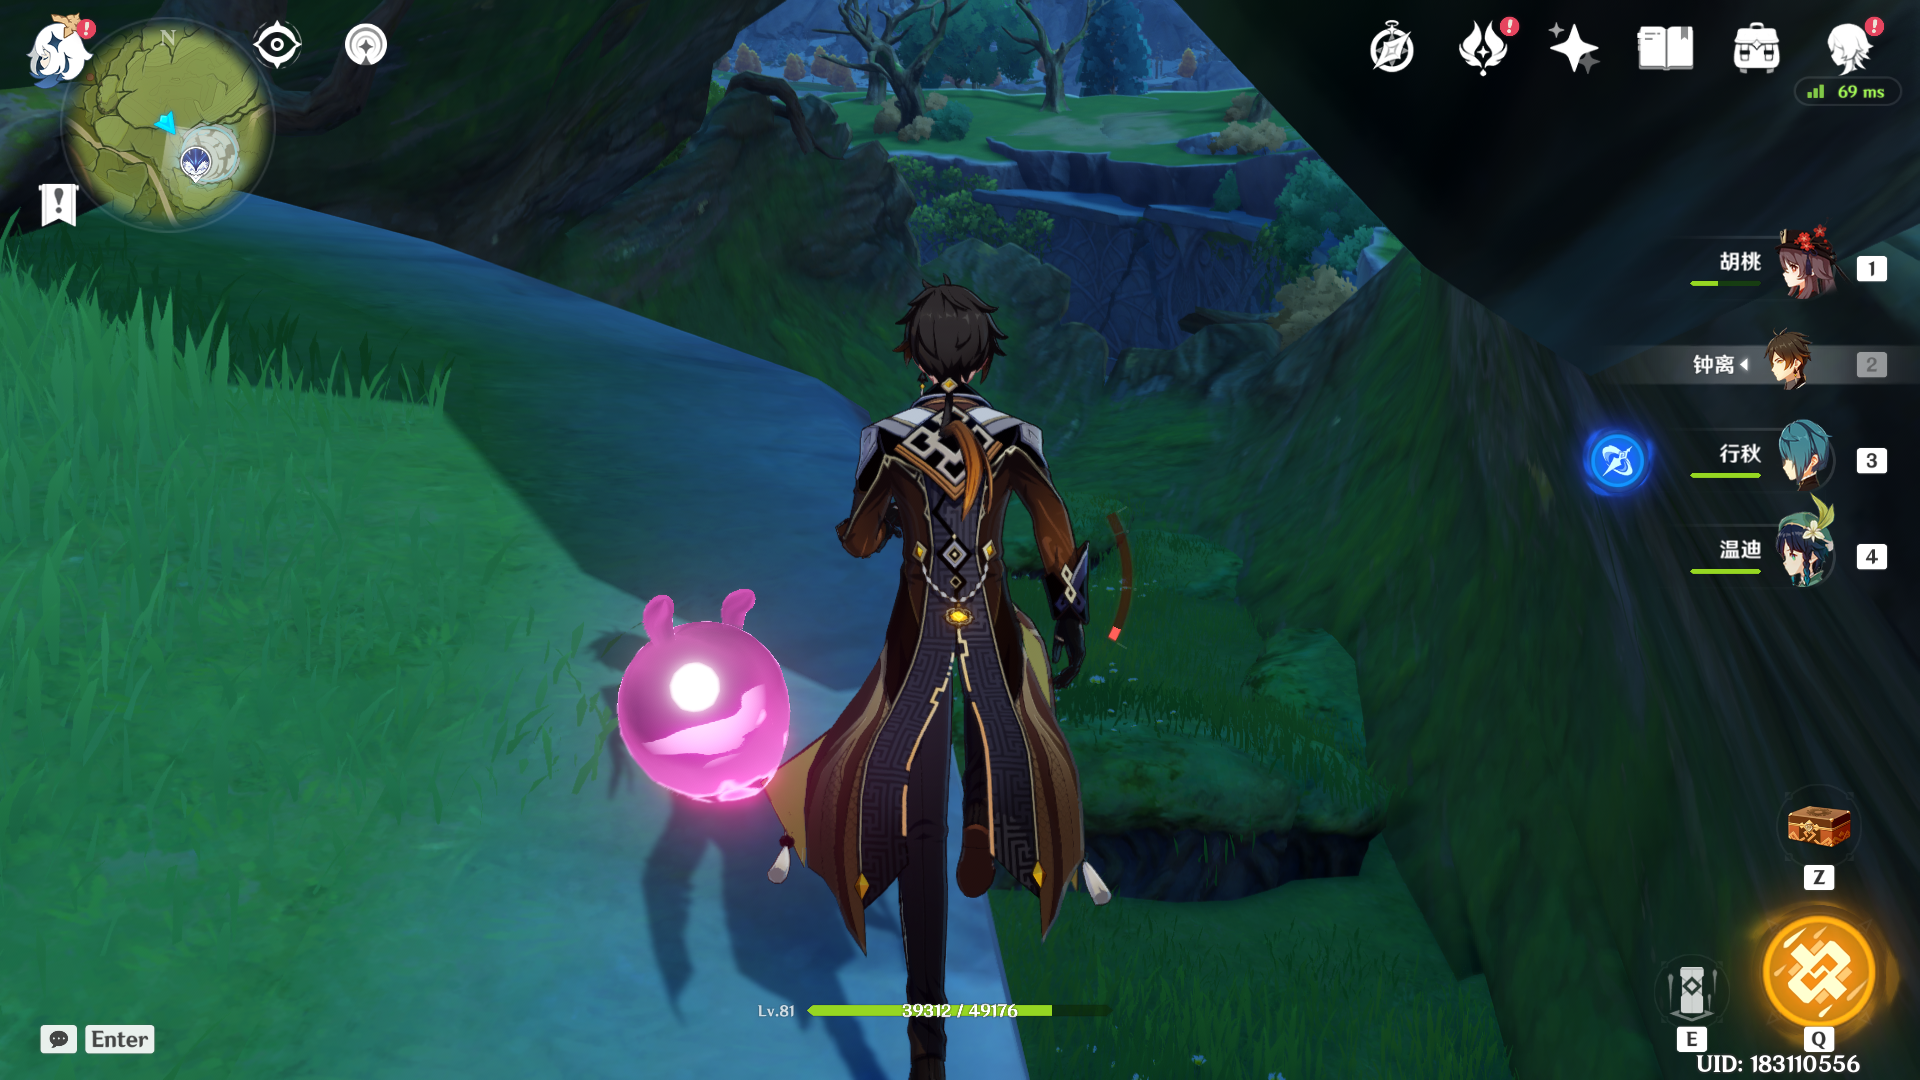character: (758, 225, 1168, 1080)
